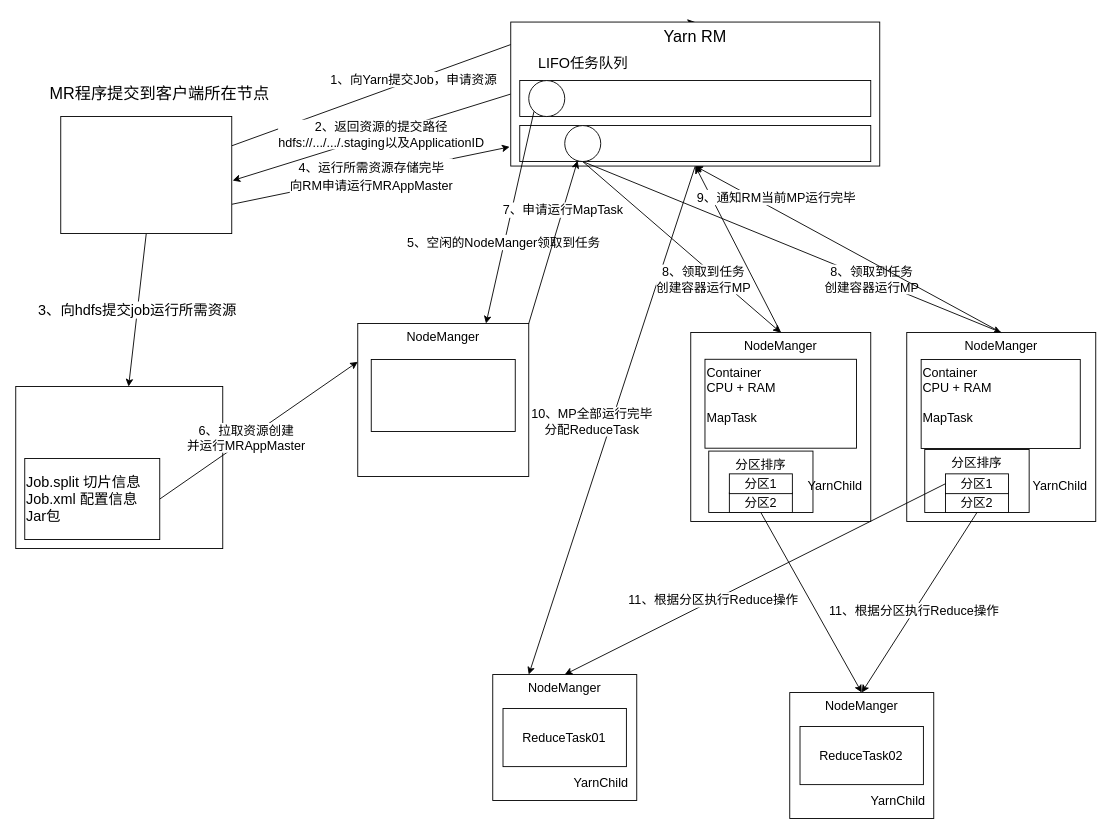
This 1112x834 diagram has some shape labels left out. The shapes that lost their labels are listed below. From the top down, each one's box as (x1, y1, x2, y2) in pixels, then its label:
(528, 80, 565, 117): Job
(564, 125, 601, 162): MP
(60, 116, 232, 234): main() { ... job.waitForCompletion }
(370, 359, 515, 432): Container CPU + RAM MRAppMaster
(15, 386, 223, 549): hdsfs://.../.../staging目录 存储MR所需资源
